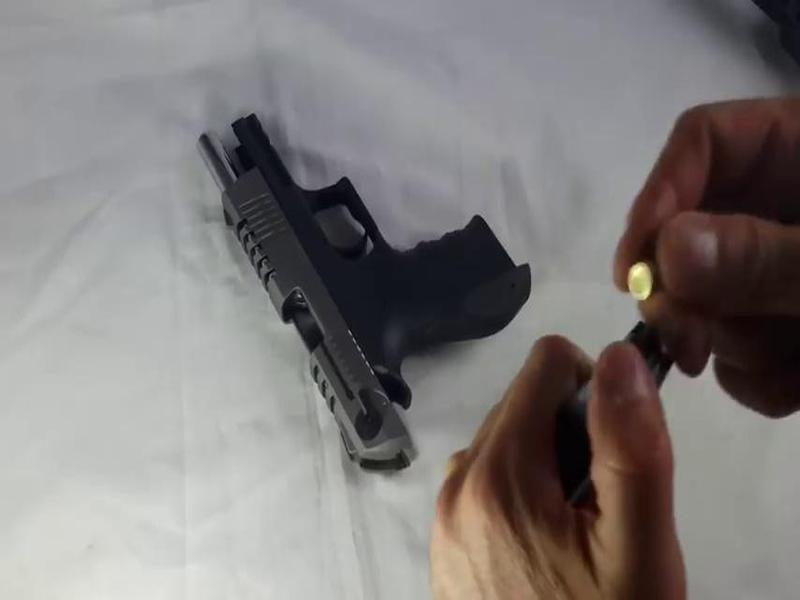Pistola: (194, 109, 511, 457)
